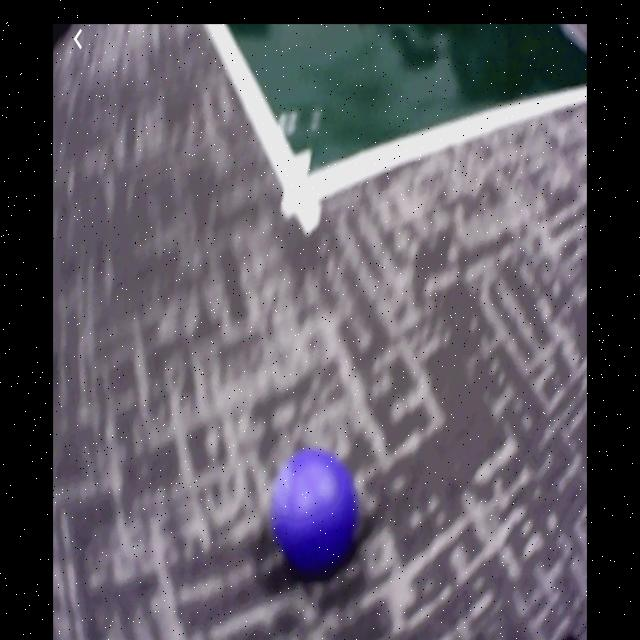ball: (273, 450, 358, 573)
